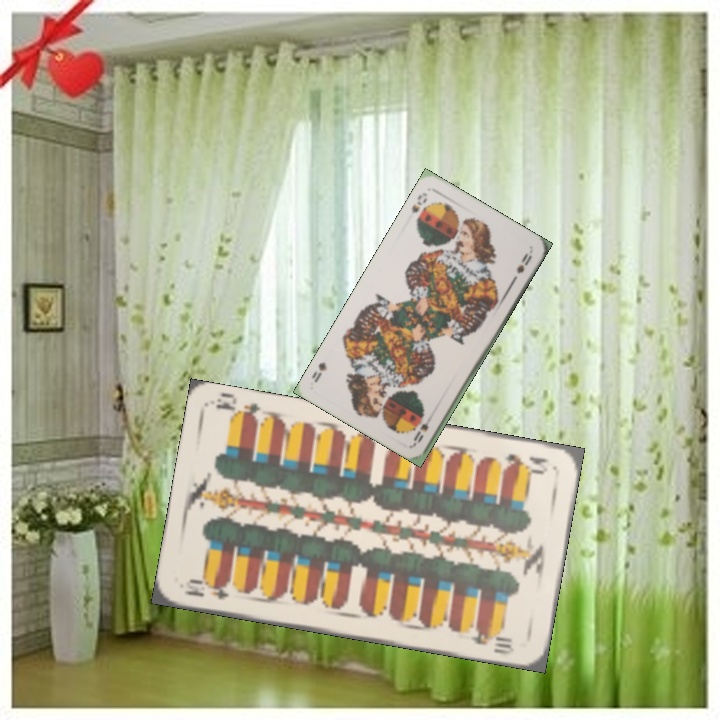E10: (180, 574, 232, 602), (500, 449, 551, 476)
SO: (409, 409, 436, 446), (407, 188, 430, 217)
